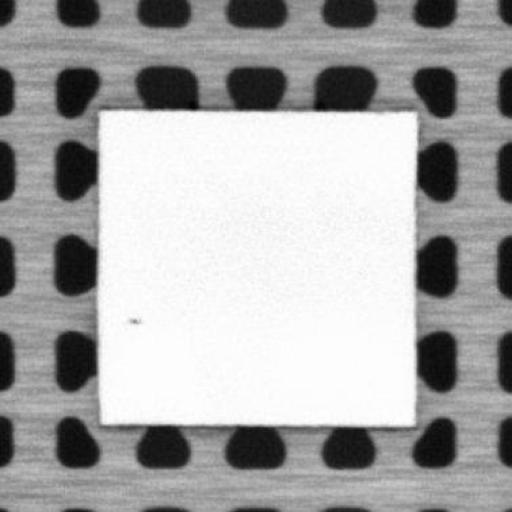DIE_INK: (124, 311, 144, 327)
